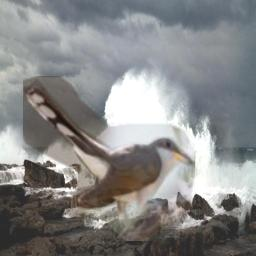Cuckoo: (23, 76, 195, 241)
